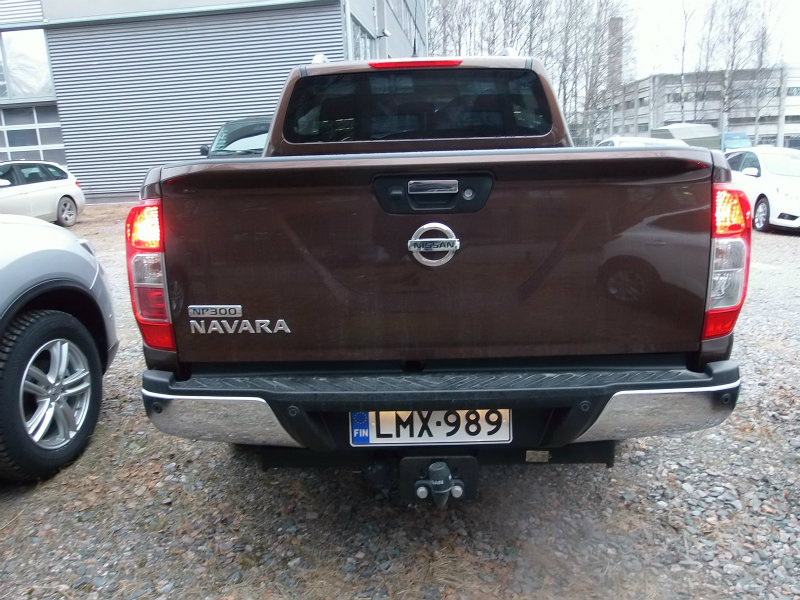license: (346, 399, 509, 450)
